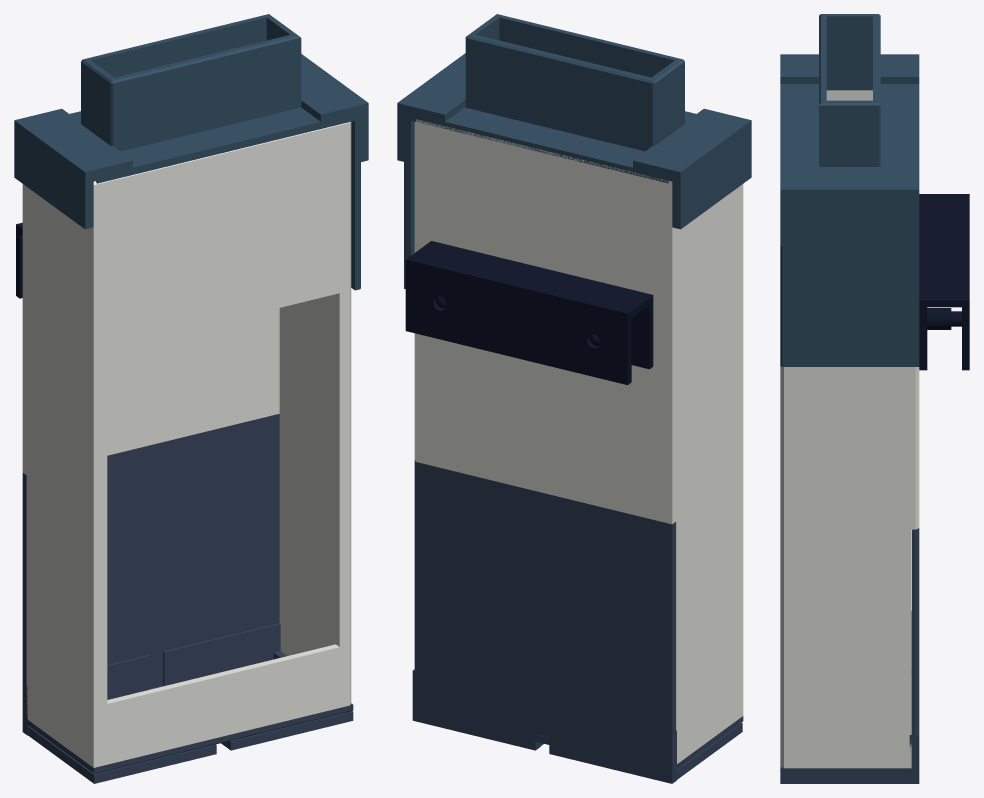
File: model_variant.glb
3 views of the same model, side by side, from view 1: azimuth 30°, elevation 25°; view 2: azimuth 150°, elevation 25°; view 3: azimuth 270°, elevation 25° (orthographic). The views are drawn at different scales.
Visible parts, largest first — view 1: Body(2944B7C6-8605-4250-BAC3-8C70497F70A5), Battery_Cover(0C81B7FA-E26F-4ABF-9CC8-8F6A558160B1), Top_Cover(6CC3FCEF-C2D6-4EAB-B3C7-62C0CF3C510E), Top_Cover(FEDF4897-FBC3-4F9D-89FD-D34CA5F386BD), Top_Cover(B093CB31-94E4-4DF8-A5EE-5B9381DB051D), Battery_Cover(58E9612E-59CC-438D-9DA4-9EF04E1BCA2E), Battery_Cover(2E26C378-519B-4840-93D0-2A747AF6A684), Top_Cover(AC56E242-96EA-4C6F-9930-C96382C371E2); view 2: Body(2944B7C6-8605-4250-BAC3-8C70497F70A5), Battery_Cover(0C81B7FA-E26F-4ABF-9CC8-8F6A558160B1), Top_Cover(6CC3FCEF-C2D6-4EAB-B3C7-62C0CF3C510E), Clip(46910DF7-C5F6-4DCE-9626-80B5F87E5C31), Top_Cover(FEDF4897-FBC3-4F9D-89FD-D34CA5F386BD), Top_Cover(B093CB31-94E4-4DF8-A5EE-5B9381DB051D), Battery_Cover(2E26C378-519B-4840-93D0-2A747AF6A684), Clip(16263F46-D7D1-4579-8E4A-EBC4A87A0DCC), Top_Cover(AC56E242-96EA-4C6F-9930-C96382C371E2), Clip(84B42212-3E5F-4644-B418-8616BB12FDAE), Battery_Cover(58E9612E-59CC-438D-9DA4-9EF04E1BCA2E); view 3: Body(2944B7C6-8605-4250-BAC3-8C70497F70A5), Top_Cover(B093CB31-94E4-4DF8-A5EE-5B9381DB051D), Top_Cover(AC56E242-96EA-4C6F-9930-C96382C371E2), Top_Cover(6CC3FCEF-C2D6-4EAB-B3C7-62C0CF3C510E), Clip(16263F46-D7D1-4579-8E4A-EBC4A87A0DCC), Battery_Cover(0C81B7FA-E26F-4ABF-9CC8-8F6A558160B1), Top_Cover(FEDF4897-FBC3-4F9D-89FD-D34CA5F386BD), Clip(84B42212-3E5F-4644-B418-8616BB12FDAE), Battery_Cover(58E9612E-59CC-438D-9DA4-9EF04E1BCA2E), Clip(46910DF7-C5F6-4DCE-9626-80B5F87E5C31), Clip(77C54F32-FCF8-4078-BC44-D1B857822310).
Part boxes in pixels (<box>): Body(2944B7C6-8605-4250-BAC3-8C70497F70A5): <box>22,122,351,767</box>; Battery_Cover(0C81B7FA-E26F-4ABF-9CC8-8F6A558160B1): <box>22,414,353,773</box>; Top_Cover(6CC3FCEF-C2D6-4EAB-B3C7-62C0CF3C510E): <box>81,14,301,151</box>; Top_Cover(FEDF4897-FBC3-4F9D-89FD-D34CA5F386BD): <box>14,108,132,229</box>; Top_Cover(B093CB31-94E4-4DF8-A5EE-5B9381DB051D): <box>70,107,360,290</box>; Battery_Cover(58E9612E-59CC-438D-9DA4-9EF04E1BCA2E): <box>163,623,353,750</box>; Battery_Cover(2E26C378-519B-4840-93D0-2A747AF6A684): <box>22,655,216,783</box>; Top_Cover(AC56E242-96EA-4C6F-9930-C96382C371E2): <box>301,54,368,162</box>; Body(2944B7C6-8605-4250-BAC3-8C70497F70A5): <box>414,119,743,763</box>; Battery_Cover(0C81B7FA-E26F-4ABF-9CC8-8F6A558160B1): <box>412,460,743,773</box>; Top_Cover(6CC3FCEF-C2D6-4EAB-B3C7-62C0CF3C510E): <box>465,14,684,151</box>; Clip(46910DF7-C5F6-4DCE-9626-80B5F87E5C31): <box>405,257,631,385</box>; Top_Cover(FEDF4897-FBC3-4F9D-89FD-D34CA5F386BD): <box>633,108,751,229</box>; Top_Cover(B093CB31-94E4-4DF8-A5EE-5B9381DB051D): <box>404,107,695,288</box>; Battery_Cover(2E26C378-519B-4840-93D0-2A747AF6A684): <box>549,704,742,783</box>; Clip(16263F46-D7D1-4579-8E4A-EBC4A87A0DCC): <box>410,243,649,317</box>; Top_Cover(AC56E242-96EA-4C6F-9930-C96382C371E2): <box>397,53,465,161</box>; Clip(84B42212-3E5F-4644-B418-8616BB12FDAE): <box>428,241,653,369</box>; Battery_Cover(58E9612E-59CC-438D-9DA4-9EF04E1BCA2E): <box>412,669,543,750</box>; Body(2944B7C6-8605-4250-BAC3-8C70497F70A5): <box>780,90,919,768</box>; Top_Cover(B093CB31-94E4-4DF8-A5EE-5B9381DB051D): <box>780,84,919,366</box>; Top_Cover(AC56E242-96EA-4C6F-9930-C96382C371E2): <box>780,167,919,245</box>; Top_Cover(6CC3FCEF-C2D6-4EAB-B3C7-62C0CF3C510E): <box>819,14,880,166</box>; Clip(16263F46-D7D1-4579-8E4A-EBC4A87A0DCC): <box>927,194,961,307</box>; Battery_Cover(0C81B7FA-E26F-4ABF-9CC8-8F6A558160B1): <box>780,528,919,775</box>; Top_Cover(FEDF4897-FBC3-4F9D-89FD-D34CA5F386BD): <box>780,54,919,83</box>; Clip(84B42212-3E5F-4644-B418-8616BB12FDAE): <box>919,194,927,370</box>; Battery_Cover(58E9612E-59CC-438D-9DA4-9EF04E1BCA2E): <box>780,676,919,783</box>; Clip(46910DF7-C5F6-4DCE-9626-80B5F87E5C31): <box>962,194,969,370</box>; Clip(77C54F32-FCF8-4078-BC44-D1B857822310): <box>927,308,961,329</box>.
Size of the model in its own units: 0.083 by 0.1897 by 0.049.
